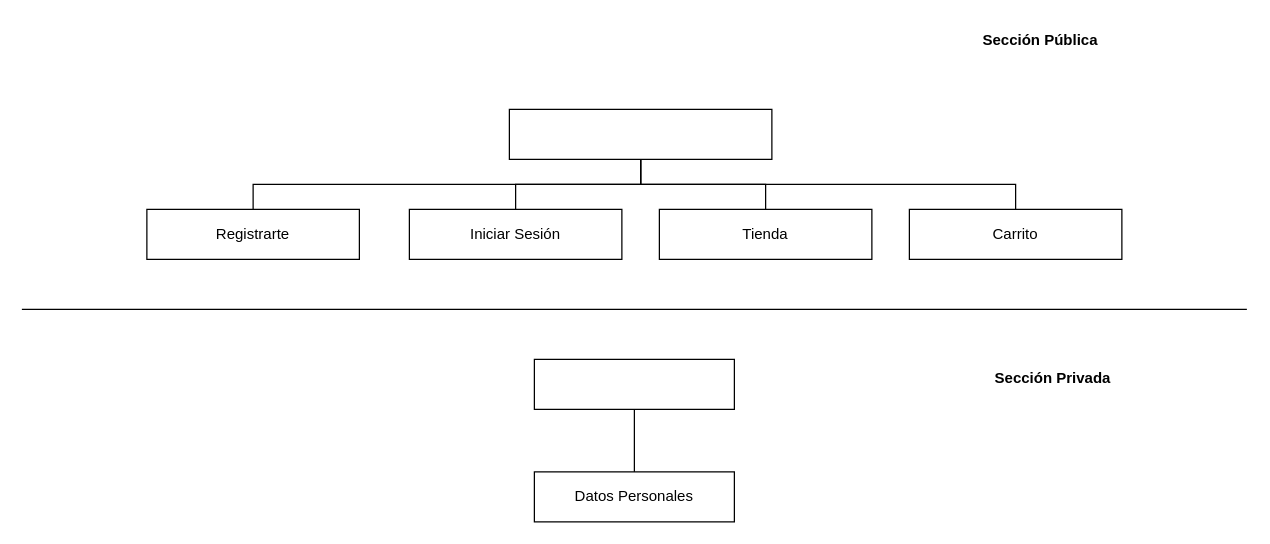
The diagram is 1270 pixels wide and 544 high, and some of its shapes have lost their labels. The centre of each missing label's shape, as x and y in pixels:
"Perfil" goes at point (633, 383).
"Página Principal" goes at point (640, 133).
